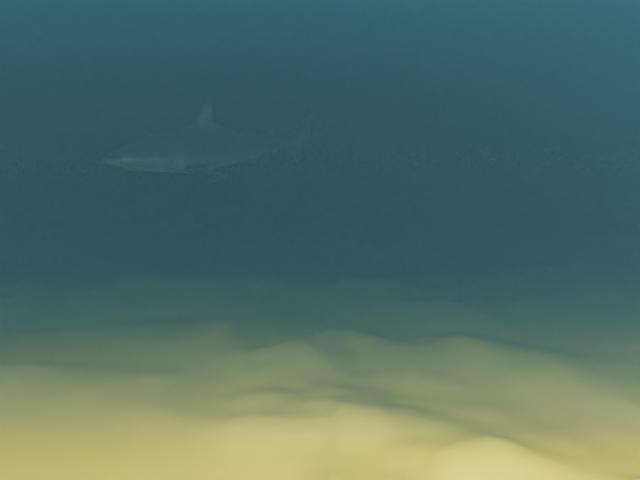Carribean Shark.001: (101, 98, 324, 180)
